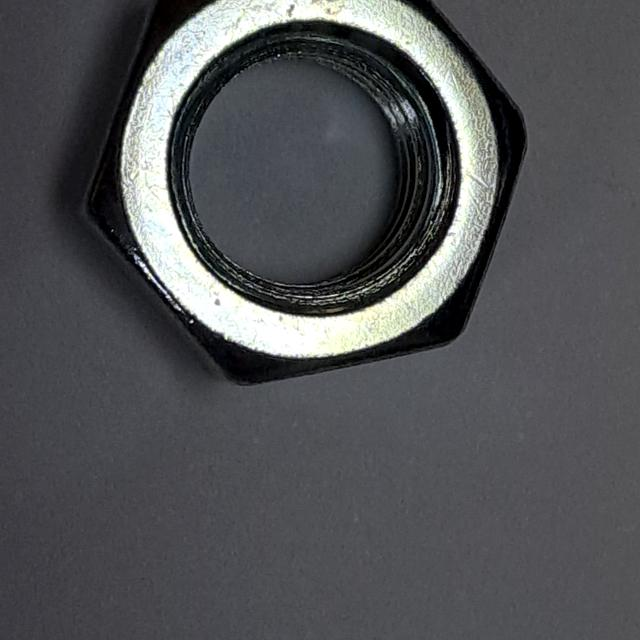Excellent: (50, 1, 542, 400)
